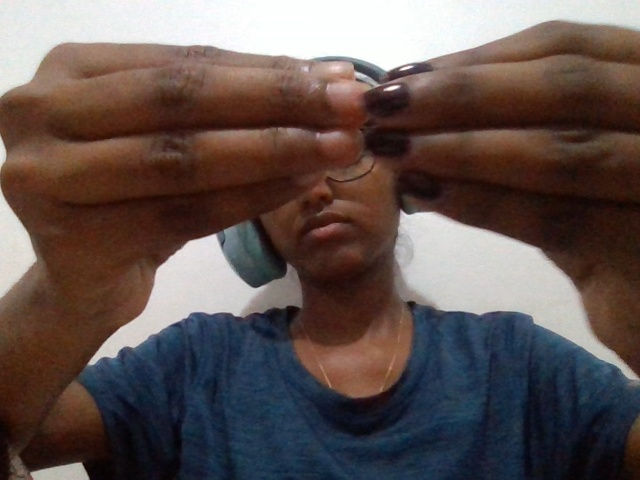More: (7, 29, 640, 381)
